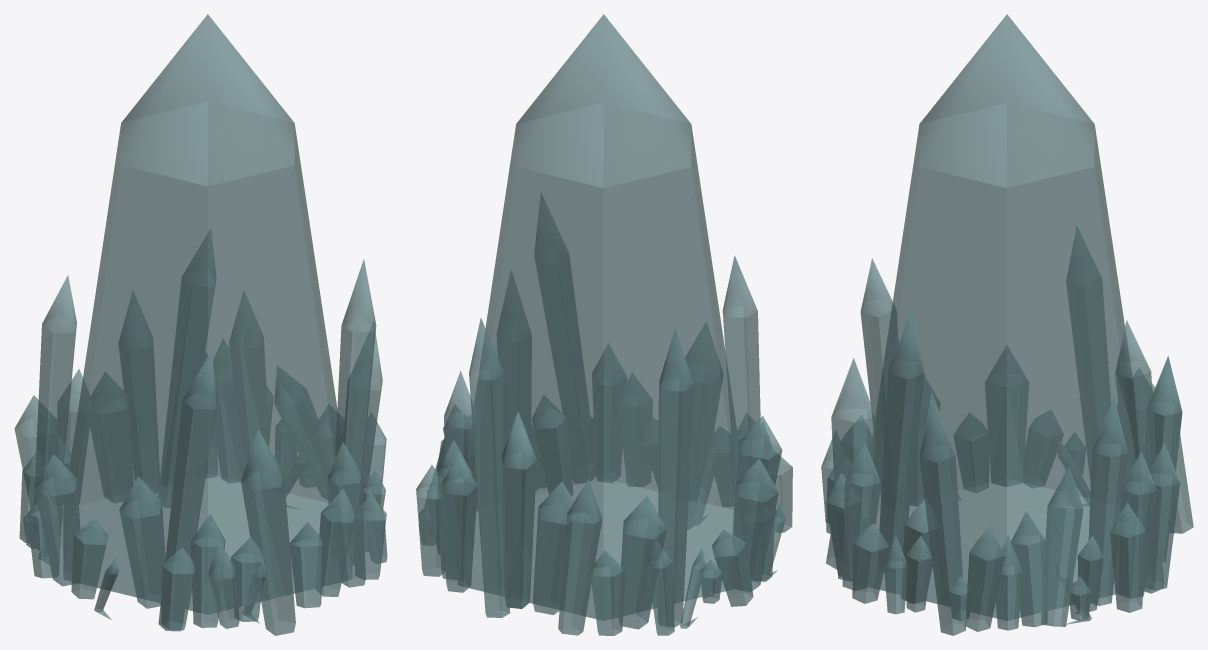
File: G_clystal.fbx
The picture shows the model from 3 angles, left to right: view 1: azimuth 30°, elevation 25°; view 2: azimuth 150°, elevation 25°; view 3: azimuth 270°, elevation 25°; orthographic projection.
Visible parts, largest first — view 1: pCylinder1, pCylinder13, pCylinder7, pCylinder4, pCylinder42, pCylinder34, pCylinder6, pCylinder31, pCylinder37, pCylinder2, pCylinder16, pCylinder35 (+22 smaller); view 2: pCylinder1, pCylinder42, pCylinder34, pCylinder4, pCylinder7, pCylinder20, pCylinder36, pCylinder41, pCylinder38, pCylinder12, pCylinder16, pCylinder2 (+22 smaller); view 3: pCylinder1, pCylinder4, pCylinder16, pCylinder42, pCylinder34, pCylinder31, pCylinder2, pCylinder13, pCylinder28, pCylinder7, pCylinder12, pCylinder35 (+26 smaller).
Boxes of the visible parts, box(x1,y1,x2,y2) form: pCylinder1: box(63, 14, 351, 614); pCylinder13: box(241, 429, 295, 635); pCylinder7: box(158, 350, 217, 631); pCylinder4: box(335, 259, 376, 551); pCylinder42: box(34, 275, 76, 549); pCylinder34: box(158, 229, 215, 507); pCylinder6: box(119, 476, 165, 608); pCylinder31: box(229, 291, 268, 469); pCylinder37: box(90, 372, 133, 502); pCylinder2: box(34, 454, 79, 586); pCylinder16: box(343, 322, 382, 564); pCylinder35: box(327, 442, 365, 587); pCylinder1: box(458, 14, 744, 620); pCylinder42: box(658, 328, 694, 626); pCylinder34: box(469, 318, 510, 617); pCylinder4: box(534, 193, 596, 472); pCylinder7: box(722, 255, 760, 488); pCylinder20: box(501, 411, 536, 608); pCylinder36: box(501, 412, 536, 608); pCylinder41: box(618, 495, 666, 629); pCylinder38: box(558, 478, 602, 635); pCylinder12: box(442, 452, 477, 592); pCylinder16: box(497, 270, 531, 442); pCylinder2: box(733, 458, 778, 591); pCylinder1: box(868, 14, 1152, 620); pCylinder4: box(877, 307, 924, 575); pCylinder16: box(919, 392, 966, 635); pCylinder42: box(1066, 227, 1110, 480); pCylinder34: box(1115, 320, 1163, 593); pCylinder31: box(1088, 397, 1127, 605); pCylinder2: box(985, 345, 1028, 486); pCylinder13: box(831, 358, 875, 581); pCylinder28: box(1041, 465, 1083, 626); pCylinder7: box(860, 258, 897, 486); pCylinder12: box(1143, 443, 1180, 590); pCylinder35: box(842, 443, 880, 590).
Bounding box in the file's own units: 2.65 × 4.22 × 2.52.
